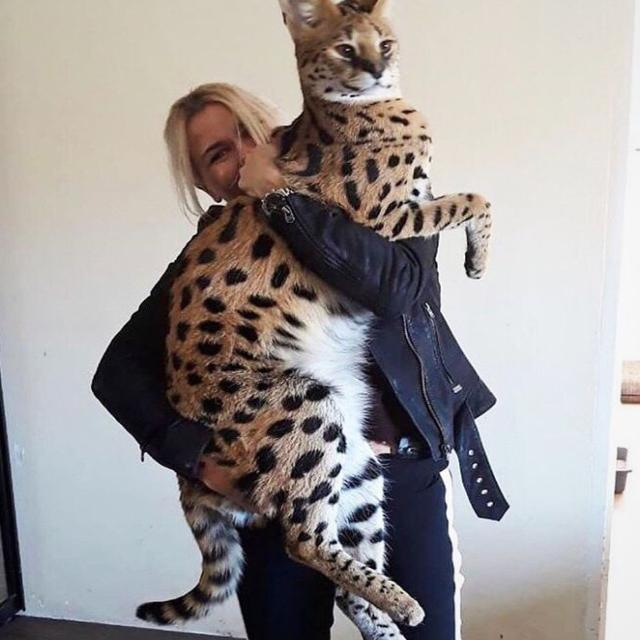Savannah: (132, 0, 497, 640)
